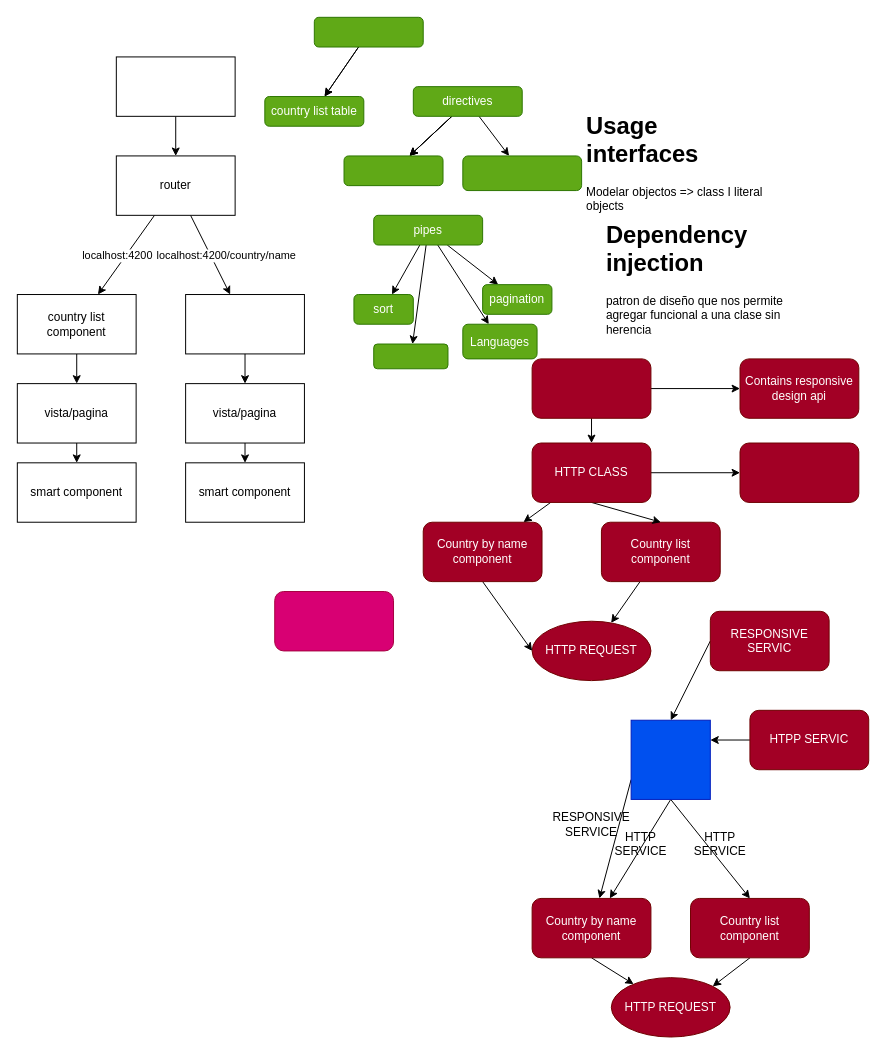
Image size: 886x1054. Some labels were removed from this diagram. Here are the shapes that lost their labels. From the top down, the centre of each, then its label:
the point at 368,31: components
the point at 175,86: General
the point at 393,170: buttons
the point at 522,173: tablw rows
the point at 244,324: country by name
the point at 410,356: countries
the point at 591,388: Responsive class
the point at 799,472: Contains the http request api
the point at 334,621: mappersClass(x)
the point at 670,759: Dependency container
